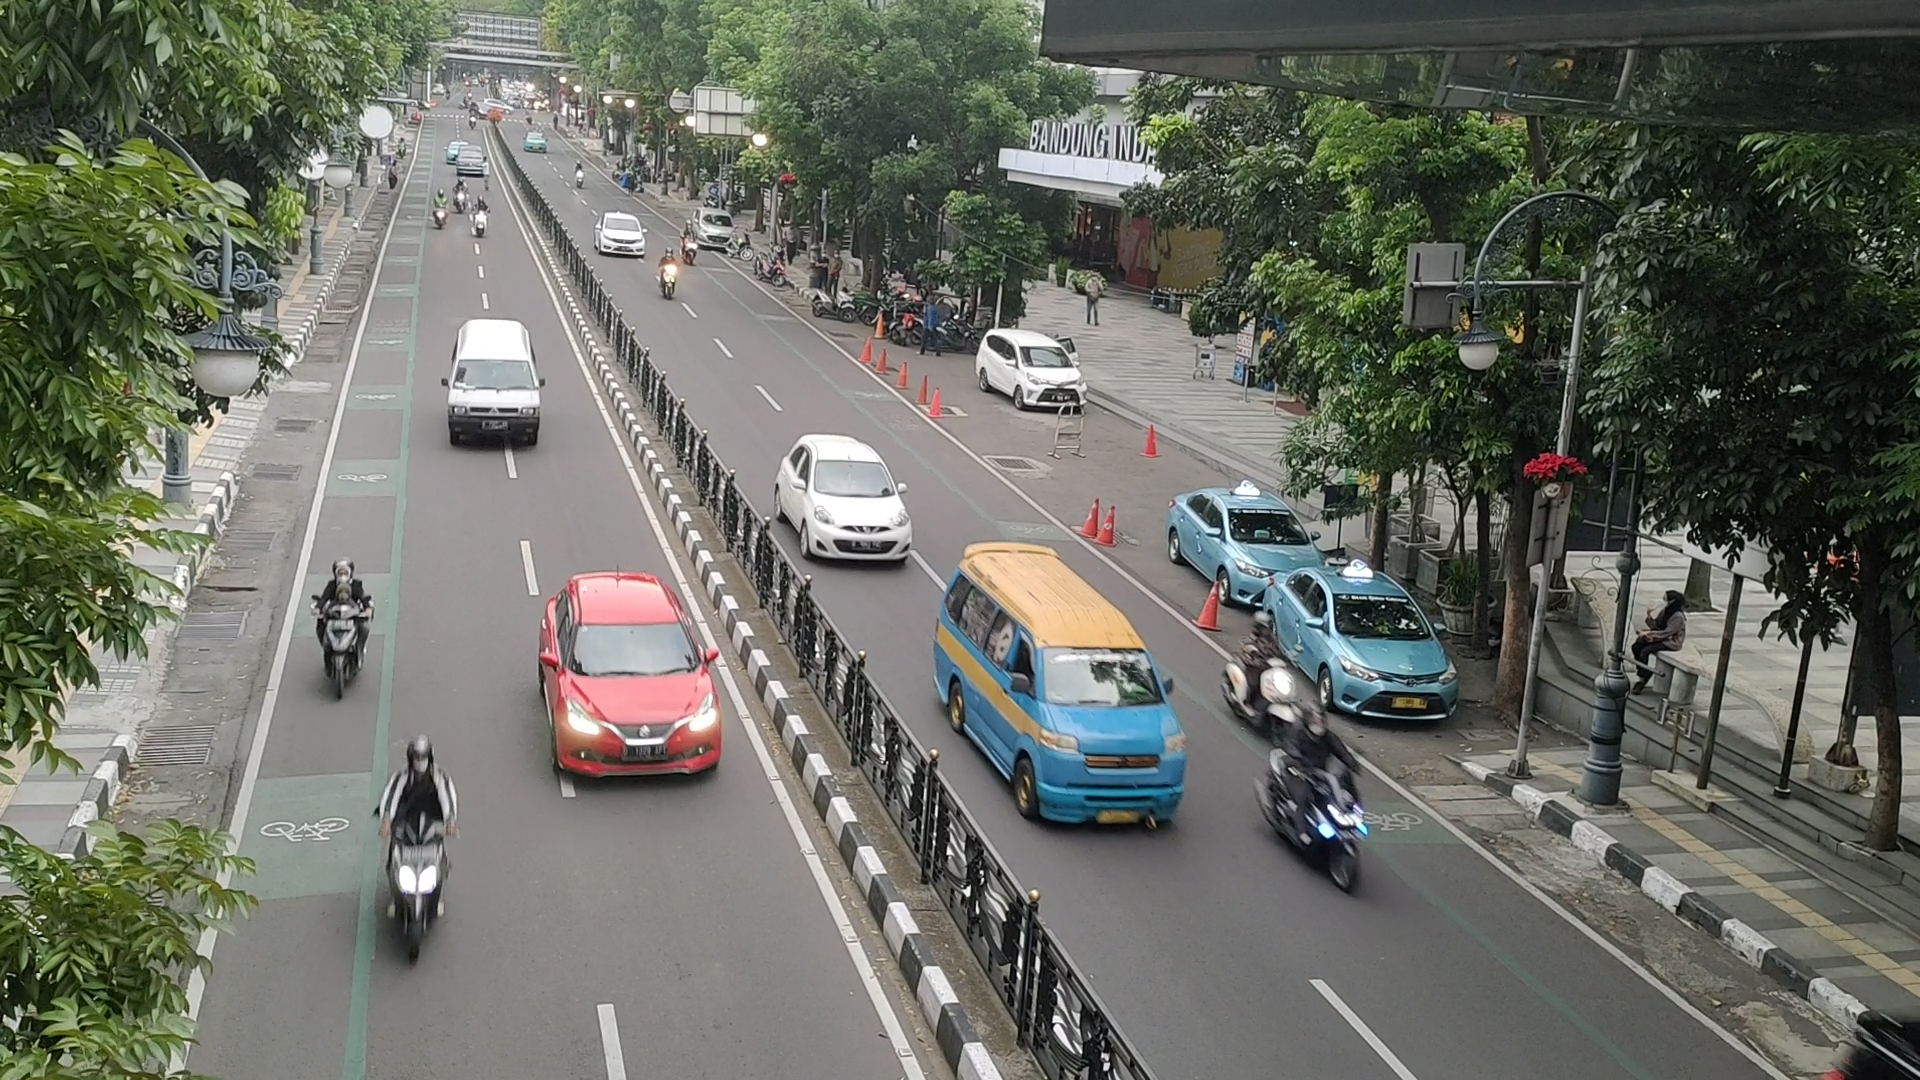mobil: (1021, 637, 1191, 837), (549, 618, 719, 781), (1323, 585, 1461, 729), (798, 454, 914, 574), (442, 349, 543, 451), (1011, 342, 1091, 411)
motor: (1251, 708, 1394, 906), (365, 724, 468, 985), (1209, 592, 1319, 760), (301, 541, 382, 719)
